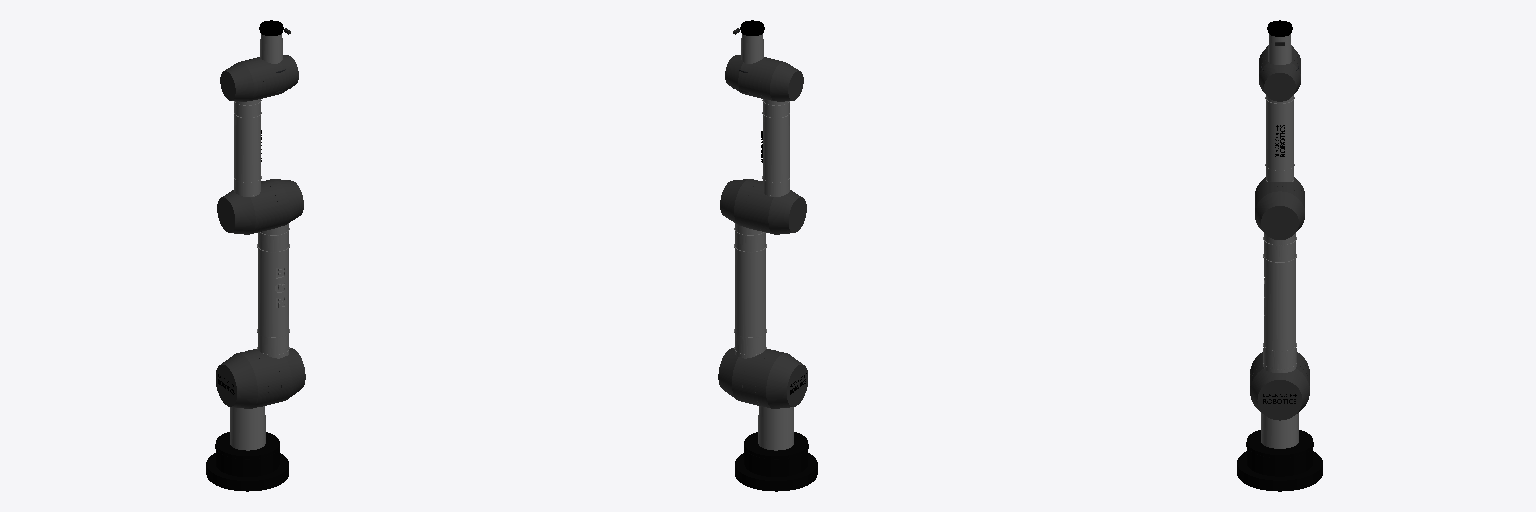
The robot description file, URDF, robot "bcr_arm":
<?xml version="1.0" ?>
<!-- =================================================================================== -->
<!-- |    This document was autogenerated by xacro from bcr_arm_description/urdf/robots/bcr_arm.urdf.xacro | -->
<!-- |    EDITING THIS FILE BY HAND IS NOT RECOMMENDED                                 | -->
<!-- =================================================================================== -->
<robot name="bcr_arm">
  <!-- Material definitions for RViz -->
  <material name="black">
    <color rgba="0.165 0.165 0.165 1.0"/>
  </material>
  <material name="dark_grey">
    <color rgba="0.376 0.376 0.376 1.0"/>
  </material>
  <material name="grey">
    <color rgba="0.565 0.565 0.565 1.0"/>
  </material>
  <!-- Connect to world frame -->
  <link name="world"/>
  <joint name="world_to_base" type="fixed">
    <parent link="world"/>
    <child link="base_link"/>
    <origin rpy="0 0 0" xyz="0 0 0"/>
  </joint>
  <!-- RViz Material Definitions -->
  <material name="color_black">
    <color rgba="0.165 0.165 0.165 1"/>
  </material>
  <material name="color_dark_grey">
    <color rgba="0.376 0.376 0.376 1"/>
  </material>
  <material name="color_grey">
    <color rgba="0.565 0.565 0.565 1"/>
  </material>
  <material name="color_light_grey">
    <color rgba="0.690 0.690 0.690 1"/>
  </material>
  <material name="color_white">
    <color rgba="0.961 0.961 0.961 1"/>
  </material>
  <!-- Ignition Gazebo Material Definitions -->
  <gazebo reference="base_link">
    <material>
      <ambient>0.165 0.165 0.165 1</ambient>
      <diffuse>0.165 0.165 0.165 1</diffuse>
      <specular>0.1 0.1 0.1 1</specular>
      <emissive>0 0 0 0</emissive>
    </material>
    <mu1>0.8</mu1>
    <mu2>0.8</mu2>
  </gazebo>
  <gazebo reference="link1">
    <material>
      <ambient>0.565 0.565 0.565 1</ambient>
      <diffuse>0.565 0.565 0.565 1</diffuse>
      <specular>0.2 0.2 0.2 1</specular>
      <emissive>0 0 0 0</emissive>
    </material>
    <mu1>0.8</mu1>
    <mu2>0.8</mu2>
  </gazebo>
  <gazebo reference="link2">
    <material>
      <ambient>0.961 0.961 0.961 1</ambient>
      <diffuse>0.961 0.961 0.961 1</diffuse>
      <specular>0.3 0.3 0.3 1</specular>
      <emissive>0 0 0 0</emissive>
    </material>
    <mu1>0.8</mu1>
    <mu2>0.8</mu2>
  </gazebo>
  <gazebo reference="link3">
    <material>
      <ambient>0.565 0.565 0.565 1</ambient>
      <diffuse>0.565 0.565 0.565 1</diffuse>
      <specular>0.2 0.2 0.2 1</specular>
      <emissive>0 0 0 0</emissive>
    </material>
    <mu1>0.8</mu1>
    <mu2>0.8</mu2>
  </gazebo>
  <gazebo reference="link4">
    <material>
      <ambient>0.961 0.961 0.961 1</ambient>
      <diffuse>0.961 0.961 0.961 1</diffuse>
      <specular>0.3 0.3 0.3 1</specular>
      <emissive>0 0 0 0</emissive>
    </material>
    <mu1>0.8</mu1>
    <mu2>0.8</mu2>
  </gazebo>
  <gazebo reference="link5">
    <material>
      <ambient>0.565 0.565 0.565 1</ambient>
      <diffuse>0.565 0.565 0.565 1</diffuse>
      <specular>0.2 0.2 0.2 1</specular>
      <emissive>0 0 0 0</emissive>
    </material>
    <mu1>0.8</mu1>
    <mu2>0.8</mu2>
  </gazebo>
  <gazebo reference="link6">
    <material>
      <ambient>0.961 0.961 0.961 1</ambient>
      <diffuse>0.961 0.961 0.961 1</diffuse>
      <specular>0.3 0.3 0.3 1</specular>
      <emissive>0 0 0 0</emissive>
    </material>
    <mu1>0.8</mu1>
    <mu2>0.8</mu2>
  </gazebo>
  <gazebo reference="flange">
    <material>
      <ambient>0.376 0.376 0.376 1</ambient>
      <diffuse>0.376 0.376 0.376 1</diffuse>
      <specular>0.15 0.15 0.15 1</specular>
      <emissive>0 0 0 0</emissive>
    </material>
    <mu1>0.8</mu1>
    <mu2>0.8</mu2>
  </gazebo>
  <!-- Kinematic Chain -->
  <link name="base_link">
    <visual>
      <geometry>
        <mesh filename="package://bcr_arm_description/meshes/base_joint.dae" scale="0.001 0.001 0.001"/>
      </geometry>
    </visual>
    <collision>
      <origin rpy="0 0 0" xyz="0 0 0.050"/>
      <geometry>
        <cylinder length="0.050" radius="0.070"/>
      </geometry>
    </collision>
    <inertial>
      <mass value="2.0"/>
      <inertia ixx="0.01" ixy="0" ixz="0" iyy="0.01" iyz="0" izz="0.01"/>
    </inertial>
  </link>
  <joint name="joint1" type="revolute">
    <parent link="base_link"/>
    <child link="link1"/>
    <origin rpy="0 0 0" xyz="0 0 0.025"/>
    <axis xyz="0 0 1"/>
    <limit effort="100" lower="-6.28" upper="6.28" velocity="2"/>
  </joint>
  <link name="link1">
    <visual>
      <origin rpy="0 0 0" xyz="0 0 0"/>
      <geometry>
        <mesh filename="package://bcr_arm_description/meshes/joint_shaft_j1.dae" scale="0.001 0.001 0.001"/>
      </geometry>
    </visual>
    <visual>
      <origin rpy="0 0 0" xyz="0 0 0"/>
      <geometry>
        <mesh filename="package://bcr_arm_description/meshes/link_l1.dae" scale="0.001 0.001 0.001"/>
      </geometry>
    </visual>
    <visual>
      <origin rpy="0 0 0" xyz="0 0 0.2"/>
      <geometry>
        <mesh filename="package://bcr_arm_description/meshes/joint_housing_j2.dae" scale="0.001 0.001 0.001"/>
      </geometry>
    </visual>
    <collision>
      <origin rpy="0 0 0" xyz="0 0 0.1"/>
      <geometry>
        <cylinder length="0.18000000000000002" radius="0.030"/>
      </geometry>
    </collision>
    <inertial>
      <mass value="1.5"/>
      <inertia ixx="0.01" ixy="0" ixz="0" iyy="0.01" iyz="0" izz="0.01"/>
    </inertial>
  </link>
  <joint name="joint2" type="revolute">
    <parent link="link1"/>
    <child link="link2"/>
    <origin rpy="0 0 0" xyz="0 0 0.2"/>
    <axis xyz="1 0 0"/>
    <limit effort="100" lower="-2.0" upper="2.0" velocity="2"/>
  </joint>
  <link name="link2">
    <visual>
      <origin rpy="0 0 0" xyz="0 0 0"/>
      <geometry>
        <mesh filename="package://bcr_arm_description/meshes/joint_output_j2.dae" scale="0.001 0.001 0.001"/>
      </geometry>
    </visual>
    <visual>
      <origin rpy="0 0 0" xyz="0.065 0 0"/>
      <geometry>
        <mesh filename="package://bcr_arm_description/meshes/joint_housing_j3.dae" scale="0.001 0.001 0.001"/>
      </geometry>
    </visual>
    <collision>
      <origin rpy="0 1.5707963267948966 0" xyz="0.0325 0 0"/>
      <geometry>
        <cylinder length="0.0975" radius="0.030"/>
      </geometry>
    </collision>
    <inertial>
      <mass value="1.5"/>
      <inertia ixx="0.01" ixy="0" ixz="0" iyy="0.01" iyz="0" izz="0.01"/>
    </inertial>
  </link>
  <joint name="joint3" type="revolute">
    <parent link="link2"/>
    <child link="link3"/>
    <origin rpy="0 0 0" xyz="0.065 0 0"/>
    <axis xyz="0 0 1"/>
    <limit effort="100" lower="-6.28" upper="6.28" velocity="2"/>
  </joint>
  <link name="link3">
    <visual>
      <origin rpy="0 0 0" xyz="0 0 0"/>
      <geometry>
        <mesh filename="package://bcr_arm_description/meshes/joint_shaft_j3.dae" scale="0.001 0.001 0.001"/>
      </geometry>
    </visual>
    <visual>
      <origin rpy="0 0 0" xyz="0 0 0"/>
      <geometry>
        <mesh filename="package://bcr_arm_description/meshes/link_l2.dae" scale="0.001 0.001 0.001"/>
      </geometry>
    </visual>
    <visual>
      <origin rpy="0 0 0" xyz="0 0 0.41"/>
      <geometry>
        <mesh filename="package://bcr_arm_description/meshes/joint_housing_j4.dae" scale="0.001 0.001 0.001"/>
      </geometry>
    </visual>
    <collision>
      <origin rpy="0 0 0" xyz="0 0 0.205"/>
      <geometry>
        <cylinder length="0.38949999999999996" radius="0.030"/>
      </geometry>
    </collision>
    <inertial>
      <mass value="1.2"/>
      <inertia ixx="0.01" ixy="0" ixz="0" iyy="0.01" iyz="0" izz="0.01"/>
    </inertial>
  </link>
  <joint name="joint4" type="revolute">
    <parent link="link3"/>
    <child link="link4"/>
    <origin rpy="0 0 0" xyz="0 0 0.41"/>
    <axis xyz="1 0 0"/>
    <limit effort="80" lower="-2.0" upper="2.0" velocity="2"/>
  </joint>
  <link name="link4">
    <visual>
      <origin rpy="0 0 0" xyz="0 0 0"/>
      <geometry>
        <mesh filename="package://bcr_arm_description/meshes/joint_output_j4.dae" scale="0.001 0.001 0.001"/>
      </geometry>
    </visual>
    <visual>
      <origin rpy="0 0 0" xyz="-0.065 0 0"/>
      <geometry>
        <mesh filename="package://bcr_arm_description/meshes/joint_housing_j5.dae" scale="0.001 0.001 0.001"/>
      </geometry>
    </visual>
    <collision>
      <origin rpy="0 1.5707963267948966 0" xyz="-0.0325 0 0"/>
      <geometry>
        <cylinder length="0.0975" radius="0.030"/>
      </geometry>
    </collision>
    <inertial>
      <mass value="1.0"/>
      <inertia ixx="0.01" ixy="0" ixz="0" iyy="0.01" iyz="0" izz="0.01"/>
    </inertial>
  </link>
  <joint name="joint5" type="revolute">
    <parent link="link4"/>
    <child link="link5"/>
    <origin rpy="0 0 0" xyz="-0.065 0 0"/>
    <axis xyz="0 0 1"/>
    <limit effort="50" lower="-6.28" upper="6.28" velocity="3"/>
  </joint>
  <link name="link5">
    <visual>
      <origin rpy="0 0 0" xyz="0 0 0"/>
      <geometry>
        <mesh filename="package://bcr_arm_description/meshes/joint_shaft_j5.dae" scale="0.001 0.001 0.001"/>
      </geometry>
    </visual>
    <visual>
      <origin rpy="0 0 0" xyz="0 0 0"/>
      <geometry>
        <mesh filename="package://bcr_arm_description/meshes/link_l3.dae" scale="0.001 0.001 0.001"/>
      </geometry>
    </visual>
    <visual>
      <origin rpy="0 0 0" xyz="0 0 0.31"/>
      <geometry>
        <mesh filename="package://bcr_arm_description/meshes/joint_housing_j6.dae" scale="0.001 0.001 0.001"/>
      </geometry>
    </visual>
    <collision>
      <origin rpy="0 0 0" xyz="0 0 0.155"/>
      <geometry>
        <cylinder length="0.2945" radius="0.025"/>
      </geometry>
    </collision>
    <inertial>
      <mass value="0.8"/>
      <inertia ixx="0.01" ixy="0" ixz="0" iyy="0.01" iyz="0" izz="0.01"/>
    </inertial>
  </link>
  <joint name="joint6" type="revolute">
    <parent link="link5"/>
    <child link="link6"/>
    <origin rpy="0 0 0" xyz="0 0 0.31"/>
    <axis xyz="1 0 0"/>
    <limit effort="50" lower="-2.0" upper="2.0" velocity="3"/>
  </joint>
  <link name="link6">
    <visual>
      <origin rpy="0 0 0" xyz="0 0 0"/>
      <geometry>
        <mesh filename="package://bcr_arm_description/meshes/joint_output_j6.dae" scale="0.001 0.001 0.001"/>
      </geometry>
    </visual>
    <visual>
      <origin rpy="0 0 0" xyz="0.06 0 0"/>
      <geometry>
        <mesh filename="package://bcr_arm_description/meshes/joint_housing_j7.dae" scale="0.001 0.001 0.001"/>
      </geometry>
    </visual>
    <collision>
      <origin rpy="0 1.5707963267948966 0" xyz="0.03 0 0"/>
      <geometry>
        <cylinder length="0.09" radius="0.030"/>
      </geometry>
    </collision>
    <inertial>
      <mass value="0.5"/>
      <inertia ixx="0.01" ixy="0" ixz="0" iyy="0.01" iyz="0" izz="0.01"/>
    </inertial>
  </link>
  <joint name="joint7" type="revolute">
    <parent link="link6"/>
    <child link="flange"/>
    <origin rpy="0 0 0" xyz="0.06 0 0"/>
    <axis xyz="0 0 1"/>
    <limit effort="30" lower="-6.28" upper="6.28" velocity="4"/>
  </joint>
  <link name="flange">
    <visual>
      <origin rpy="0 0 0" xyz="0 0 0"/>
      <geometry>
        <mesh filename="package://bcr_arm_description/meshes/joint_shaft_j7.dae" scale="0.001 0.001 0.001"/>
      </geometry>
    </visual>
    <visual>
      <origin rpy="0 0 0" xyz="0 0 0"/>
      <geometry>
        <mesh filename="package://bcr_arm_description/meshes/link_l4.dae" scale="0.001 0.001 0.001"/>
      </geometry>
    </visual>
    <visual>
      <origin rpy="0 0 0" xyz="0 0 0.105"/>
      <geometry>
        <mesh filename="package://bcr_arm_description/meshes/tool_flange.dae" scale="0.001 0.001 0.001"/>
      </geometry>
    </visual>
    <collision>
      <origin rpy="0 0 0" xyz="0 0 0.0525"/>
      <geometry>
        <cylinder length="0.0945" radius="0.025"/>
      </geometry>
    </collision>
    <inertial>
      <mass value="0.3"/>
      <inertia ixx="0.01" ixy="0" ixz="0" iyy="0.01" iyz="0" izz="0.01"/>
    </inertial>
  </link>
  <!-- Camera Mount and Link -->
  <joint name="camera_mount_joint" type="fixed">
    <parent link="flange"/>
    <child link="camera_base_link"/>
    <origin rpy="0 0 0" xyz="0.04 0 0.096125"/>
  </joint>
  <link name="camera_base_link">
    <visual>
      <geometry>
        <box size="0.00625 0.02 0.00625"/>
      </geometry>
      <material name="black"/>
    </visual>
    <collision>
      <geometry>
        <box size="0.00625 0.02 0.00625"/>
      </geometry>
    </collision>
    <inertial>
      <mass value="0.05"/>
      <inertia ixx="1e-6" ixy="0" ixz="0" iyy="1e-6" iyz="0" izz="1e-6"/>
    </inertial>
  </link>
  <!-- Camera Sensor Link -->
  <joint name="camera_joint" type="fixed">
    <parent link="camera_base_link"/>
    <child link="camera_link"/>
    <!-- Pointing forward from the mount -->
    <origin rpy="0 0 0" xyz="0.0125 0 0"/>
  </joint>
  <link name="camera_link"/>
  <!-- Camera Optical Frame -->
  <joint name="camera_optical_joint" type="fixed">
    <parent link="camera_link"/>
    <child link="camera_depth_optical_frame"/>
    <!-- Standard ROS optical frame rotation -->
    <origin rpy="-1.5707963267948966 0 -1.5707963267948966" xyz="0 0 0"/>
  </joint>
  <link name="camera_depth_optical_frame"/>
  <!-- Ignition Gazebo Camera Plugin -->
  <gazebo reference="camera_link">
    <sensor name="depth_camera" type="camera">
      <always_on>true</always_on>
      <update_rate>20</update_rate>
      <visualize>true</visualize>
      <camera>
        <horizontal_fov>1.0</horizontal_fov>
        <image>
          <width>640</width>
          <height>480</height>
          <format>R8G8B8</format>
        </image>
        <depth_image>
          <width>640</width>
          <height>480</height>
        </depth_image>
        <clip>
          <near>0.1</near>
          <far>10.0</far>
        </clip>
      </camera>
      <!-- Sensor data handled by Gazebo sensors system and bridged by ros_gz_bridge -->
    </sensor>
  </gazebo>
  <gazebo>
    <plugin filename="gz_ros2_control-system" name="gz_ros2_control::GazeboSimROS2ControlPlugin">
      <parameters>bcr_arm_moveit_config/config/bcr_arm/ros2_controllers.yaml</parameters>
      <ros>
        <remapping>/controller_manager/robot_description:=/robot_description</remapping>
      </ros>
    </plugin>
  </gazebo>
  <ros2_control name="IgnitionSystem" type="system">
    <hardware>
      <plugin>gz_ros2_control/GazeboSimSystem</plugin>
    </hardware>
    <joint name="joint1">
      <command_interface name="position"/>
      <state_interface name="position"/>
      <state_interface name="velocity"/>
      <state_interface name="effort"/>
    </joint>
    <joint name="joint2">
      <command_interface name="position"/>
      <state_interface name="position"/>
      <state_interface name="velocity"/>
      <state_interface name="effort"/>
    </joint>
    <joint name="joint3">
      <command_interface name="position"/>
      <state_interface name="position"/>
      <state_interface name="velocity"/>
      <state_interface name="effort"/>
    </joint>
    <joint name="joint4">
      <command_interface name="position"/>
      <state_interface name="position"/>
      <state_interface name="velocity"/>
      <state_interface name="effort"/>
    </joint>
    <joint name="joint5">
      <command_interface name="position"/>
      <state_interface name="position"/>
      <state_interface name="velocity"/>
      <state_interface name="effort"/>
    </joint>
    <joint name="joint6">
      <command_interface name="position"/>
      <state_interface name="position"/>
      <state_interface name="velocity"/>
      <state_interface name="effort"/>
    </joint>
    <joint name="joint7">
      <command_interface name="position"/>
      <state_interface name="position"/>
      <state_interface name="velocity"/>
      <state_interface name="effort"/>
    </joint>
  </ros2_control>
</robot>

--- Render facts (derived) ---
Views: 3 orthographic renders of the robot side by side, from view 1: azimuth 30°, elevation 25°; view 2: azimuth 150°, elevation 25°; view 3: azimuth 270°, elevation 25°.
Model bcr_arm with 12 links and 11 joints (7 revolute, 4 fixed), rooted at world, posed every joint at zero.
Visible links, largest first — view 1: link3, link1, link5, base_link, flange; view 2: link3, link1, link5, base_link, flange; view 3: link3, link1, link5, base_link, flange.
Boxes of the visible links, <box> form: link3: <box>217,179,303,358</box>; link1: <box>216,348,305,450</box>; link5: <box>220,55,298,196</box>; base_link: <box>206,432,288,491</box>; flange: <box>259,20,283,63</box>; link3: <box>720,179,806,358</box>; link1: <box>718,348,807,450</box>; link5: <box>725,55,803,196</box>; base_link: <box>735,432,817,491</box>; flange: <box>740,20,764,63</box>; link3: <box>1255,177,1304,372</box>; link1: <box>1250,352,1309,448</box>; link5: <box>1259,46,1300,181</box>; base_link: <box>1237,430,1322,491</box>; flange: <box>1267,20,1292,64</box>.
Size in the robot's own frame: 0.2104 by 0.18 by 1.07 metres.
19 mesh visuals loaded from 19 distinct referenced files (19 Collada DAE).